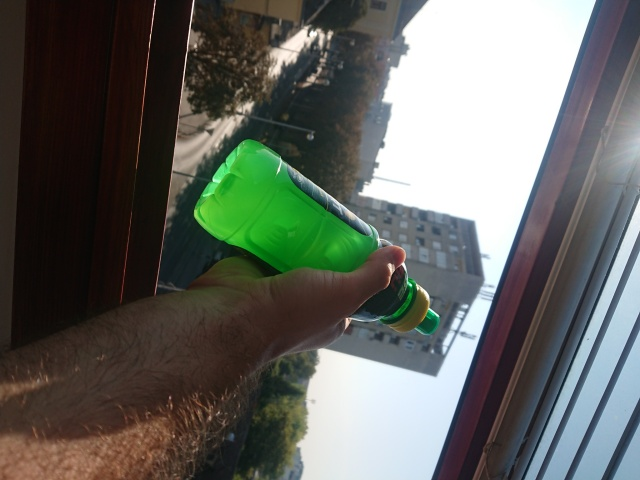Vindi Iso Sport Lemon-Grapefruit 500mL: (190, 136, 443, 338)
